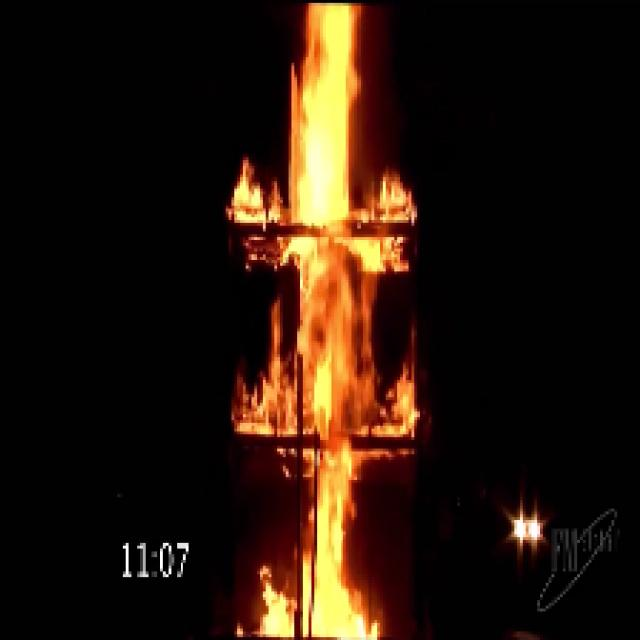fire: (266, 8, 384, 628)
